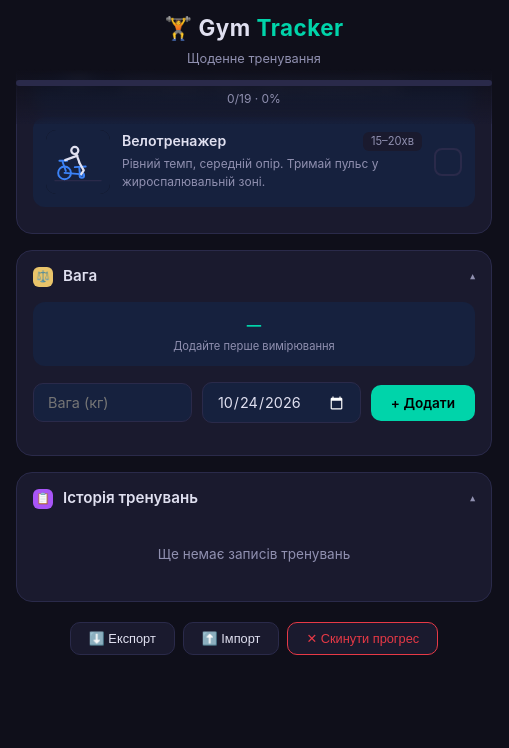
App undo flows › shows a toast when there is nothing to reset
(page scrolled)
Click the button with id "btn-reset" at (363, 638), box [287,622,438,655]
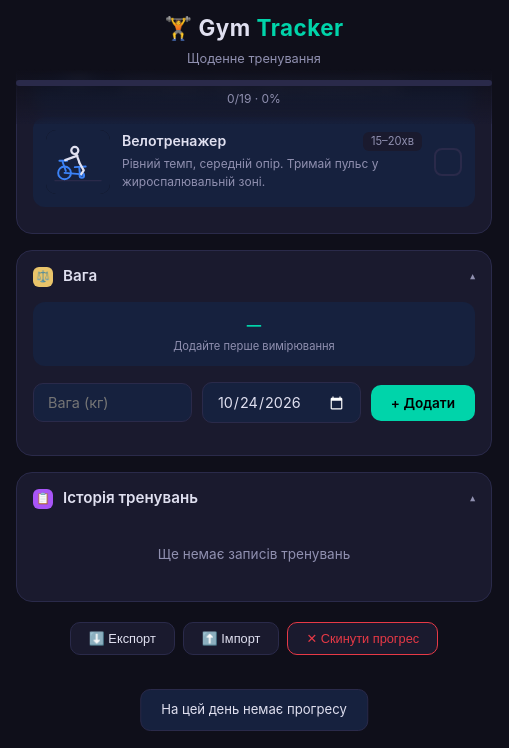
Result: the message with class "toast" shows "немає прогресу" at [161,701,347,717]
